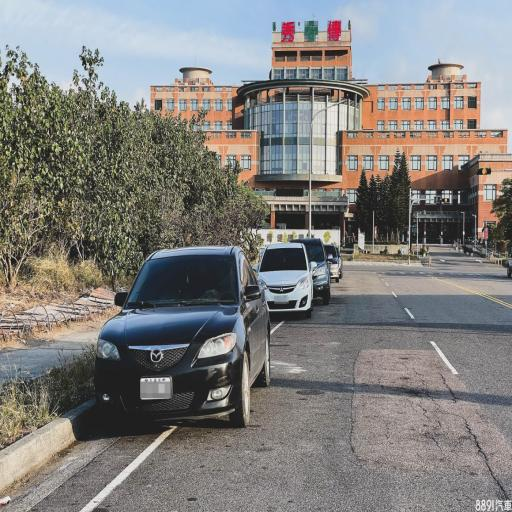car: (88, 237, 277, 433), (247, 236, 314, 322)
whiteline: (77, 414, 179, 512)
